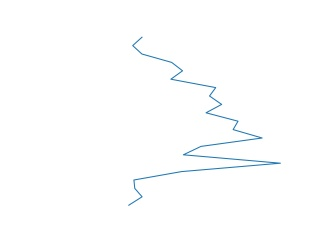floodSwamp: (126, 37, 286, 205)
